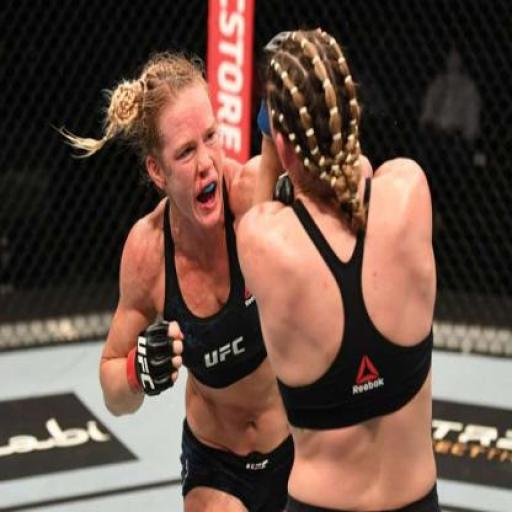Fighting: (61, 26, 441, 512)
